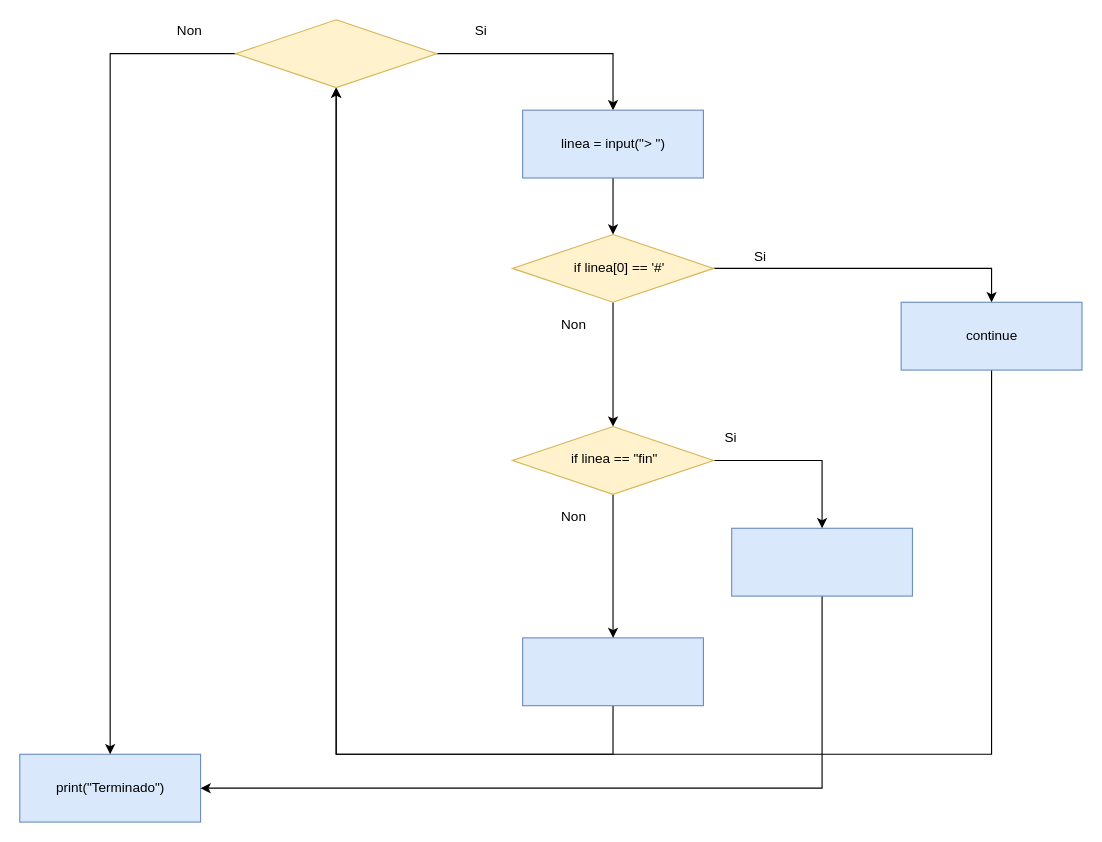
The diagram is 1102 pixels wide and 842 high, and some of its shapes have lost their labels. The shapes that lost their labels are listed below. From the top down, each one's centre as x and y in pixels, then its label:
(x=335, y=53): while True
(x=821, y=561): break
(x=612, y=671): print(linea)
